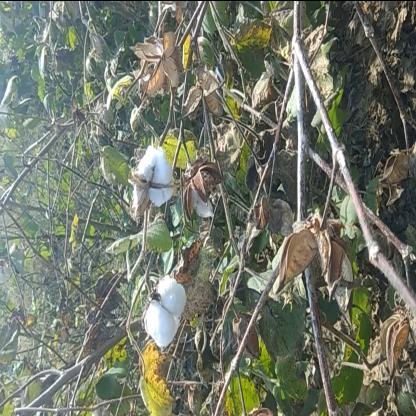cotton_ready: (146, 271, 196, 369), (128, 152, 180, 224)
